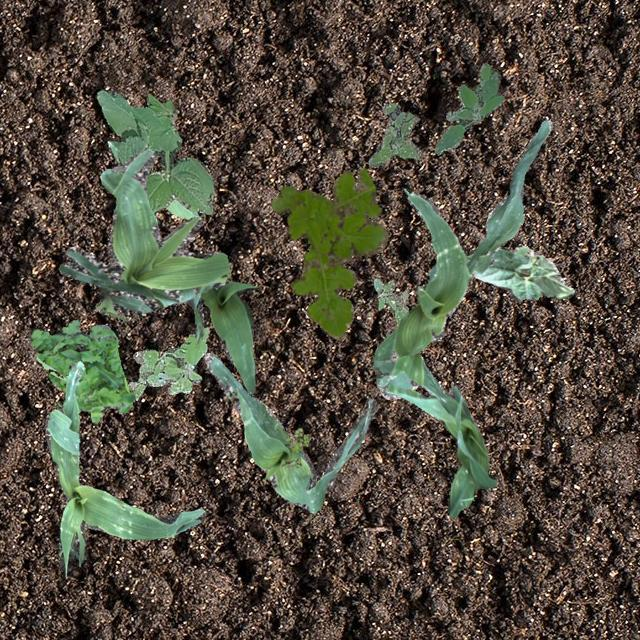crop: (372, 119, 552, 398), (44, 360, 205, 572), (58, 148, 230, 318), (204, 352, 376, 512), (374, 352, 496, 516), (186, 280, 258, 392), (106, 136, 202, 218), (464, 244, 574, 300)
weed: (269, 168, 386, 338), (95, 88, 214, 214), (28, 319, 134, 422), (433, 62, 502, 152), (128, 326, 208, 399), (368, 101, 422, 166), (372, 278, 408, 326), (280, 426, 310, 466)
